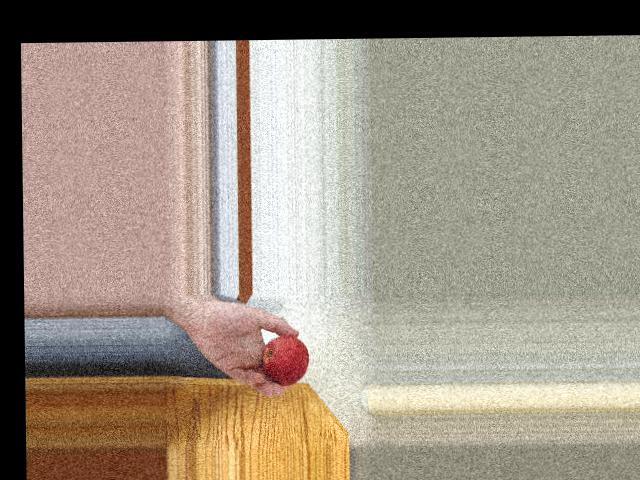apple: (257, 333, 308, 385)
